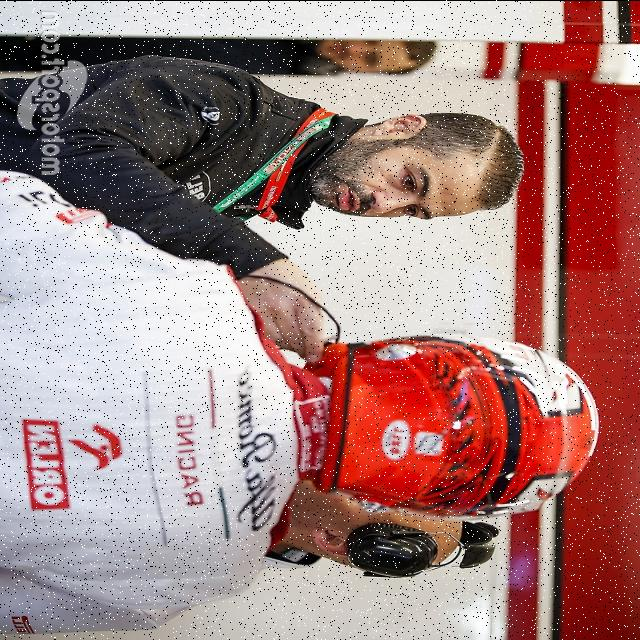Helmet: (316, 334, 599, 518)
